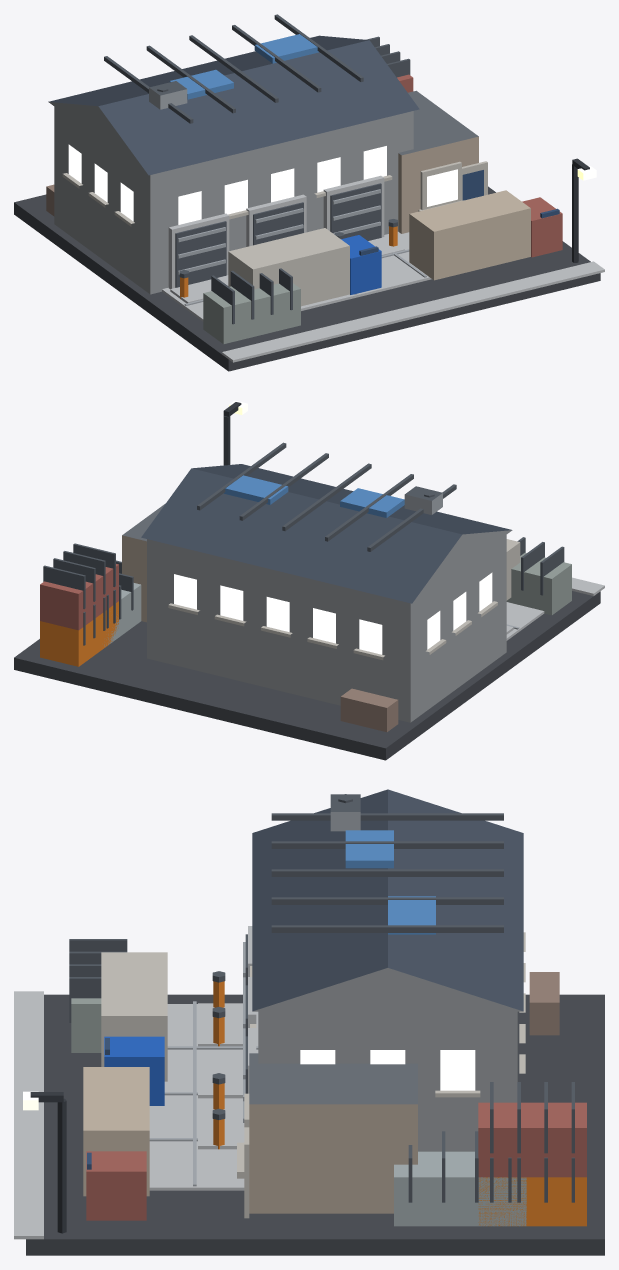
3 renders of one model, top to bottom at view 1: azimuth 30°, elevation 25°; view 2: azimuth 150°, elevation 25°; view 3: azimuth 270°, elevation 25°, orthographic. The views are drawn at different scales.
Parts seen in each view (by area): view 1: b33_v2; view 2: b33_v2; view 3: b33_v2.
Part boxes in pixels (x1,y1,x2,y2): b33_v2: (14,14,604,371); b33_v2: (14,400,604,760); b33_v2: (14,789,604,1255).
Size of the model in its own units: 0.96 by 0.454 by 0.98.
